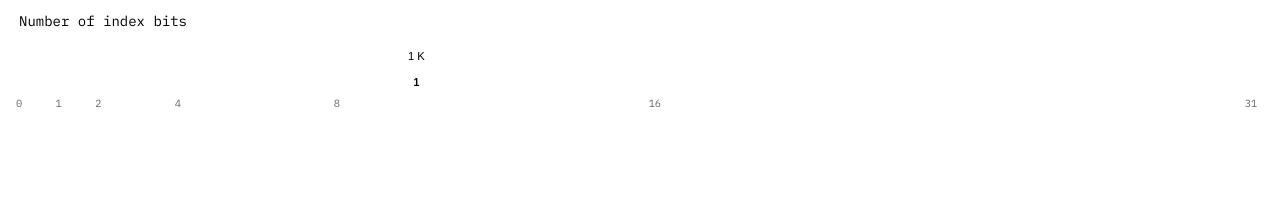
Test: HierarchySlider context menu › positions the context menu at the click's viewport coordinates (teleported, not clipped by an ancestor)
Right-click the button named "L1, 1 K" at {"x": 416, "y": 82}, box [402,68,430,96]
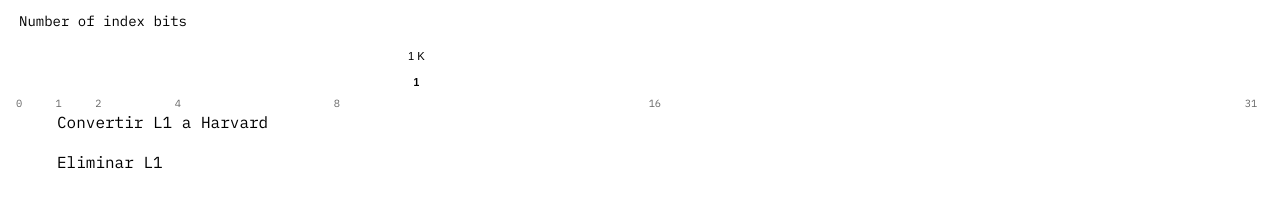
Result: the element with class "hierarchy-slider-context-menu" is shown at [37,96,288,188]
